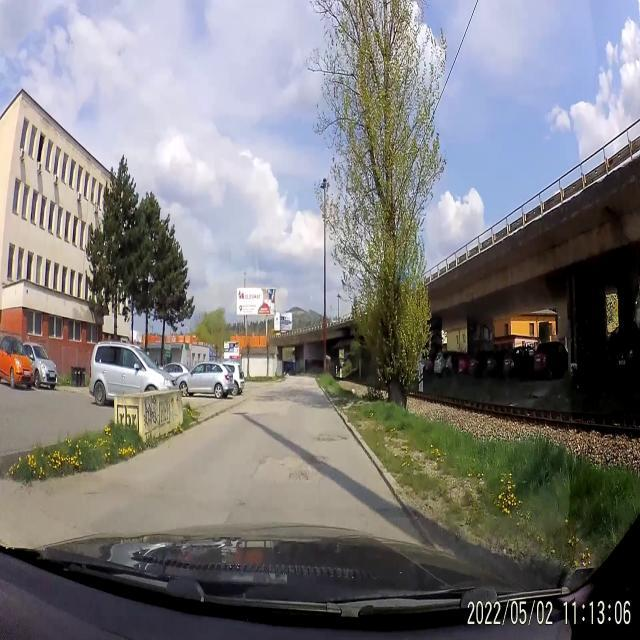Pothole: (314, 427, 350, 455), (286, 462, 314, 490), (236, 496, 250, 508)
